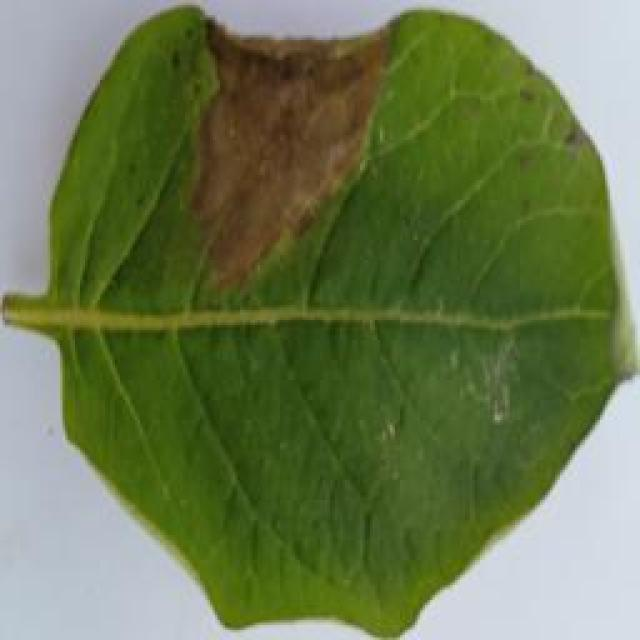Potato_Late_Blight: (2, 5, 627, 634)
